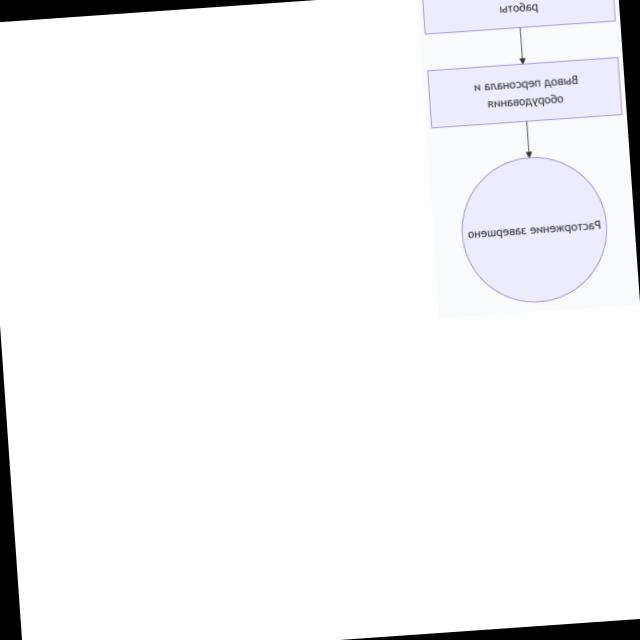arrow: (519, 28, 524, 64), (525, 123, 530, 158)
circle: (432, 128, 635, 331)
rectangle: (426, 58, 621, 129)
